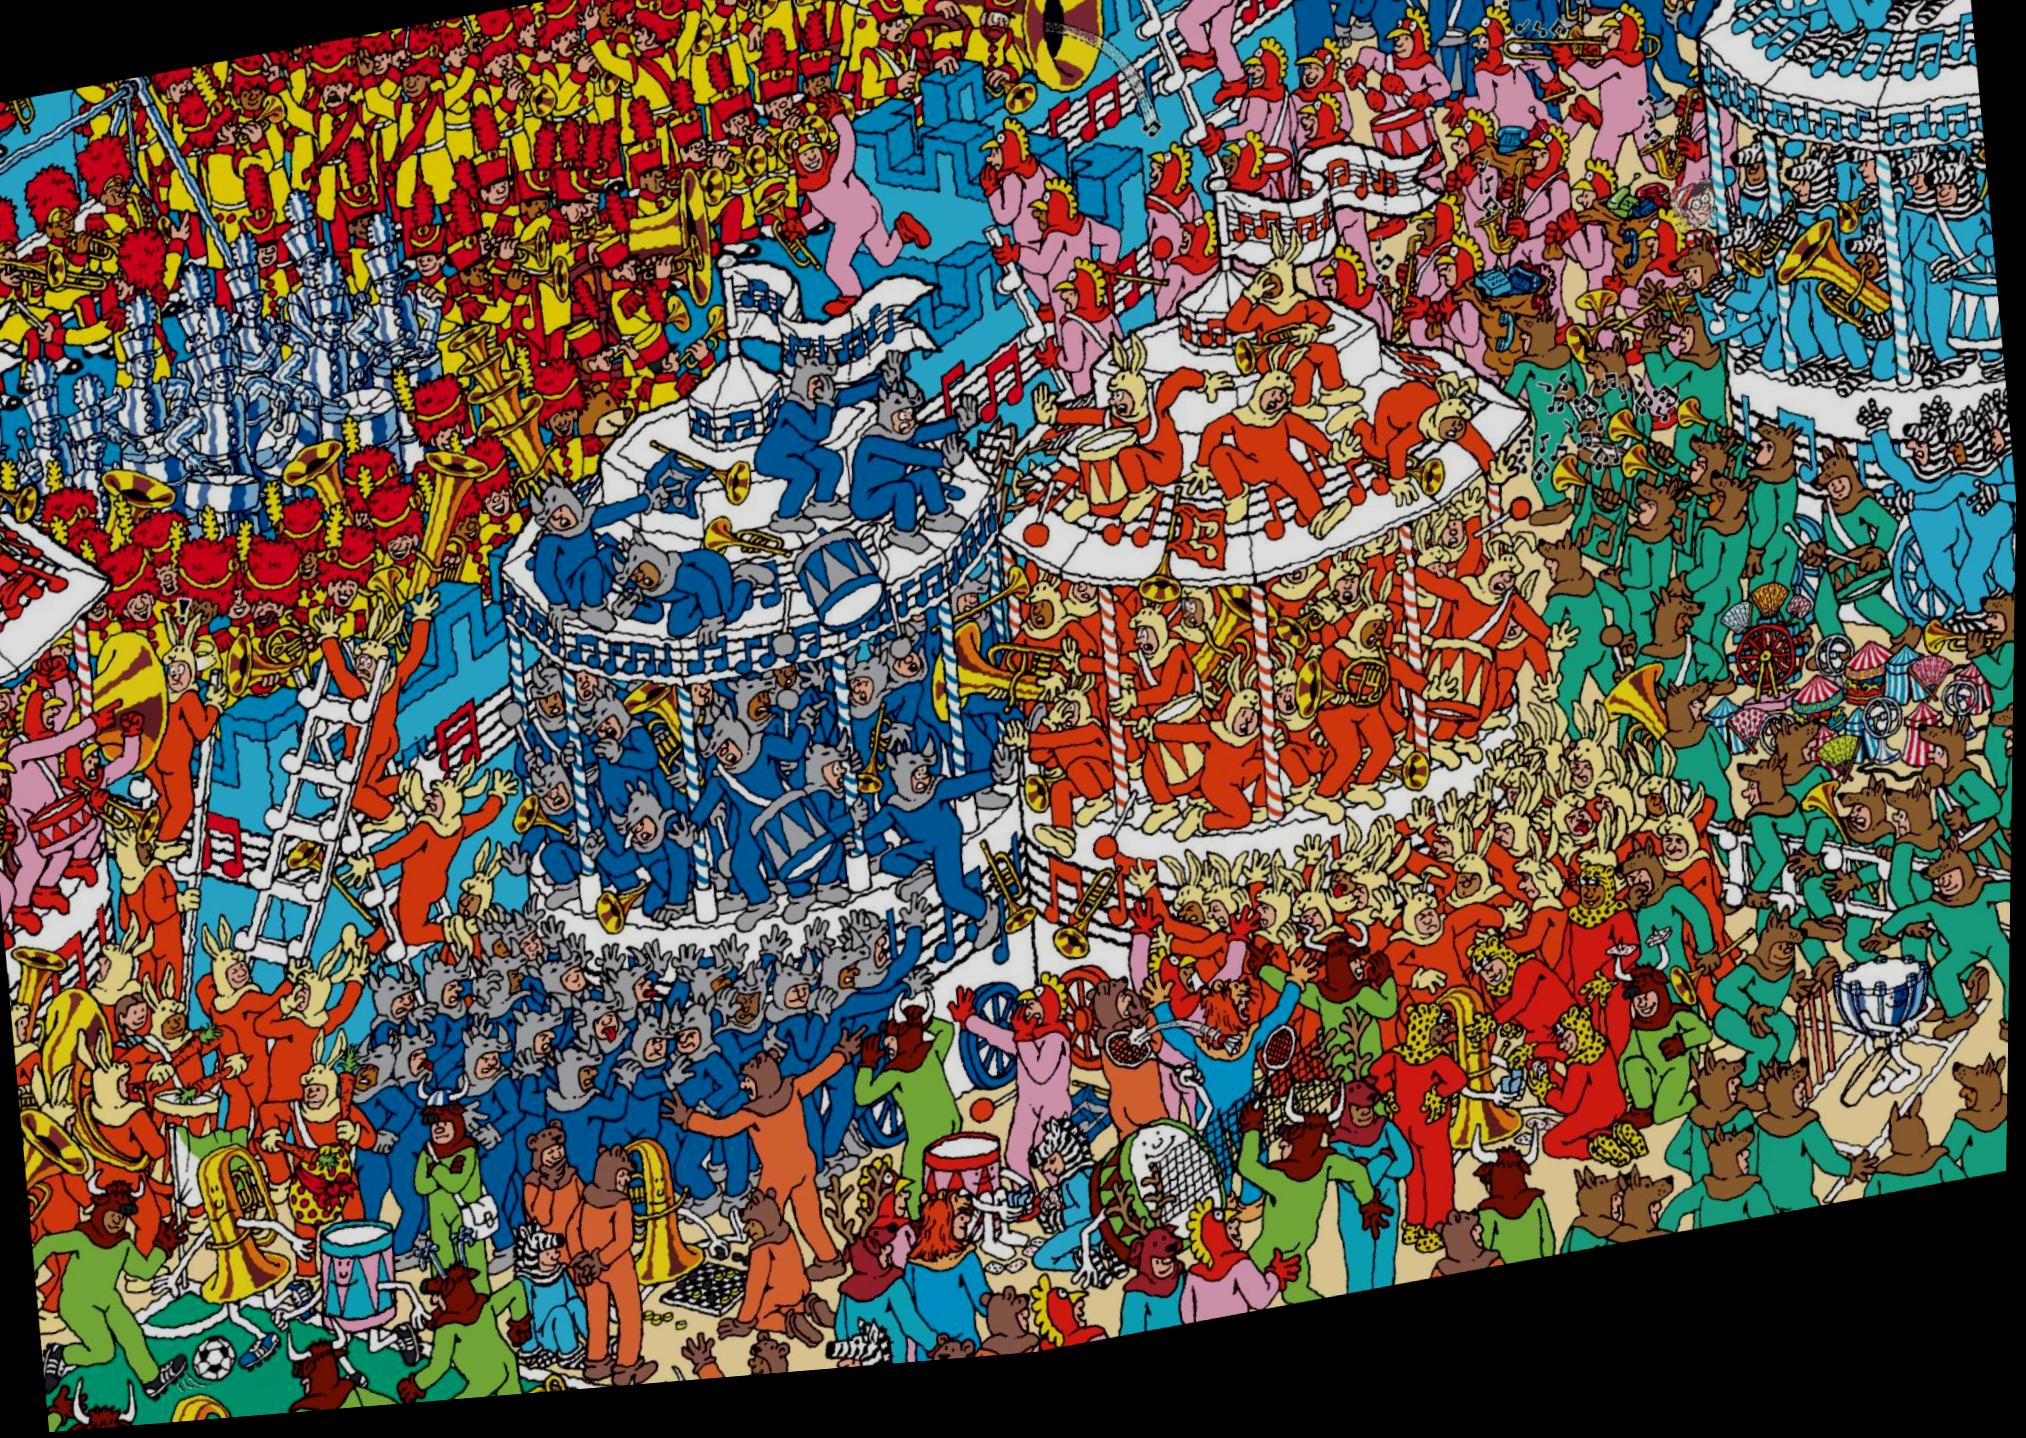waldo: (1670, 207, 1718, 261)
